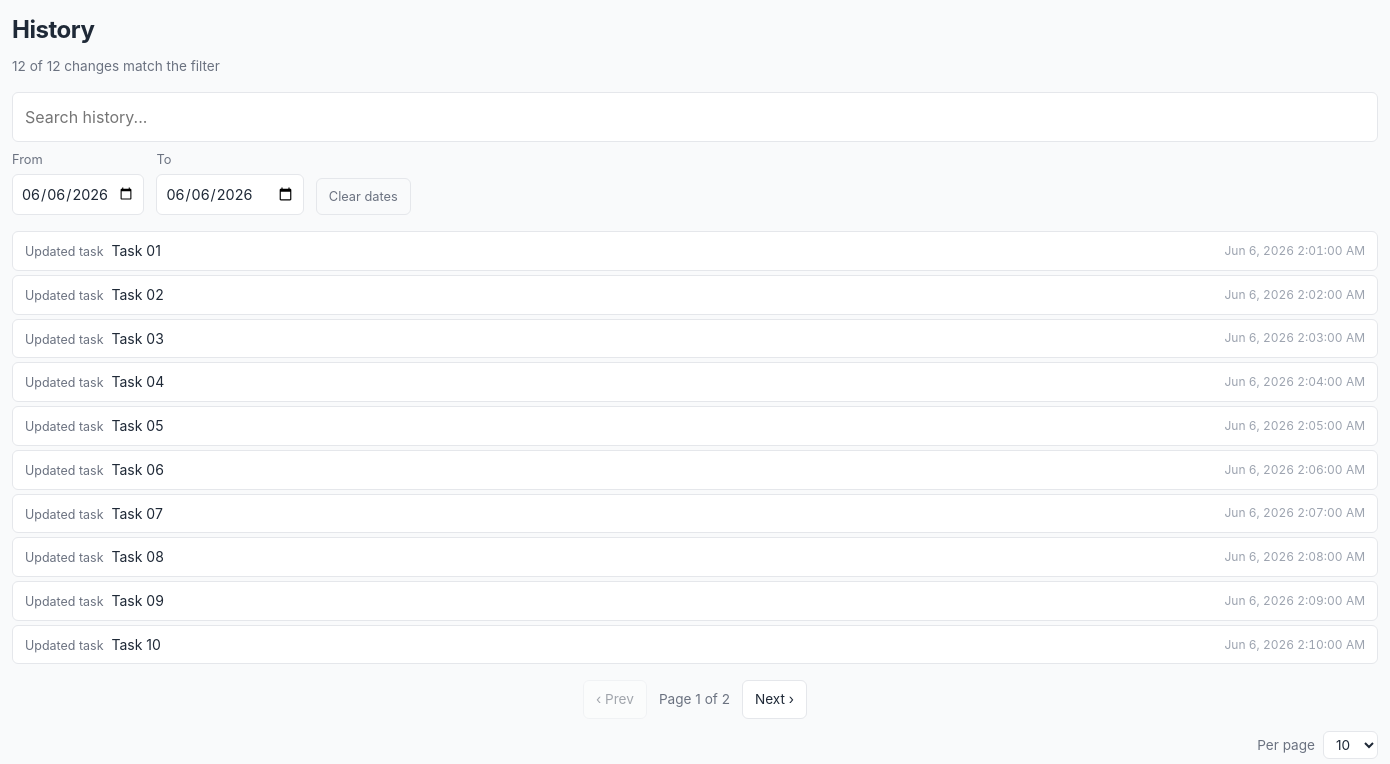
it: HistoryView — search + pagination › changes the page size, collapsing to one page
This screenshot has width=1390, height=764.
Expected: the field labelled "Search history..." is shown, [12, 92, 1378, 142]
Select "30" in the dropdown named "history entries per page" at (1350, 745), box [1323, 731, 1378, 759]
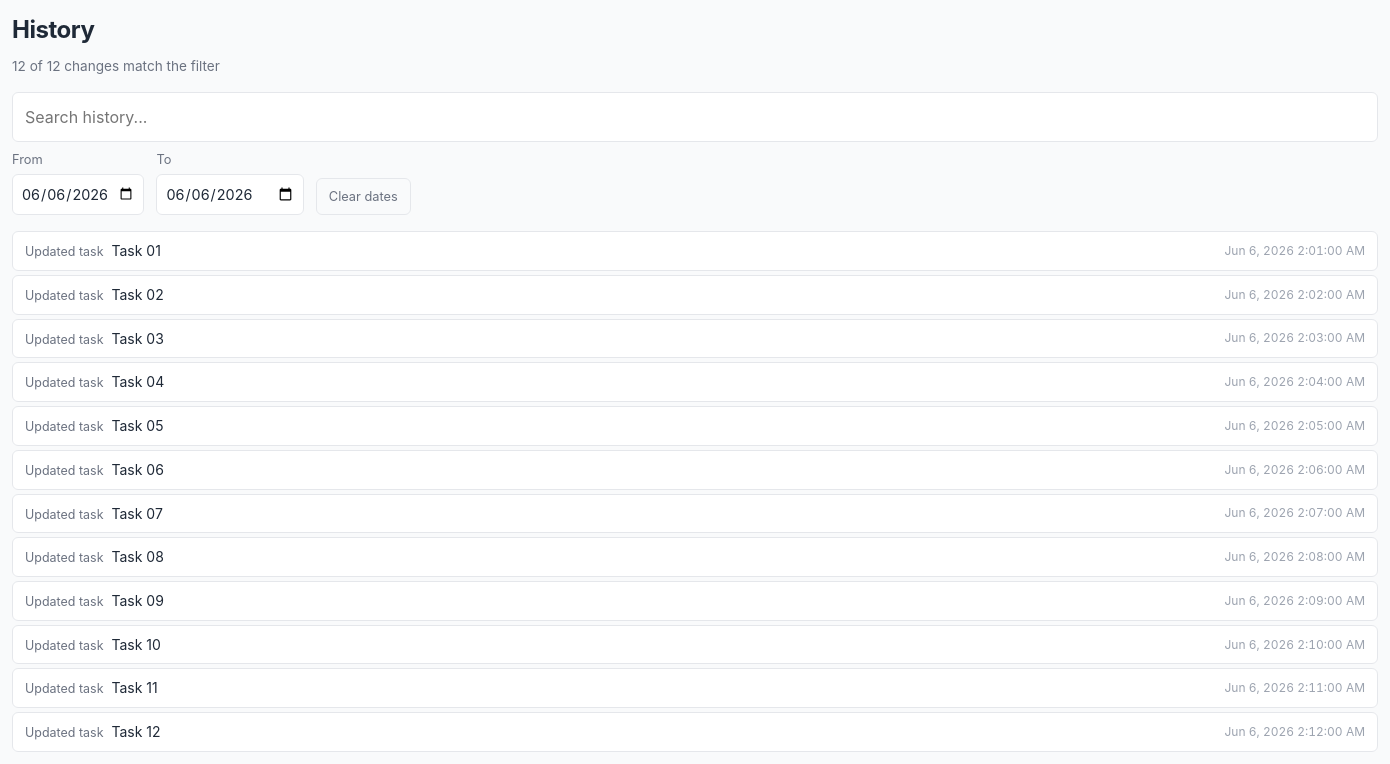
Now the text "Page 1 of 2" is gone
